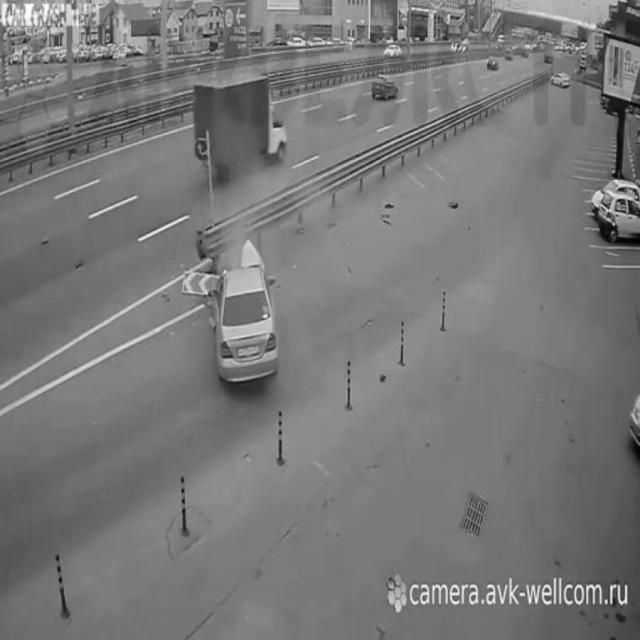vehicle: (189, 75, 290, 178), (209, 265, 282, 389), (596, 190, 640, 240), (368, 74, 402, 101), (541, 34, 557, 64), (550, 67, 572, 87), (384, 40, 404, 60), (485, 50, 501, 70)
